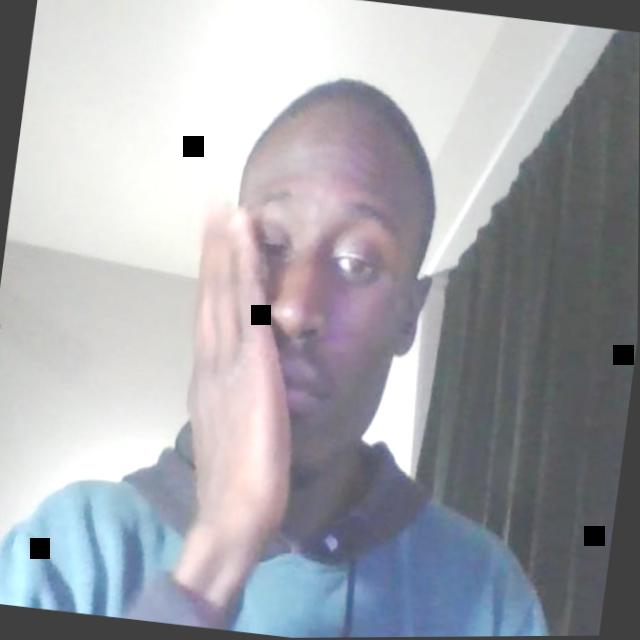NO-Mask: (208, 178, 435, 490)
